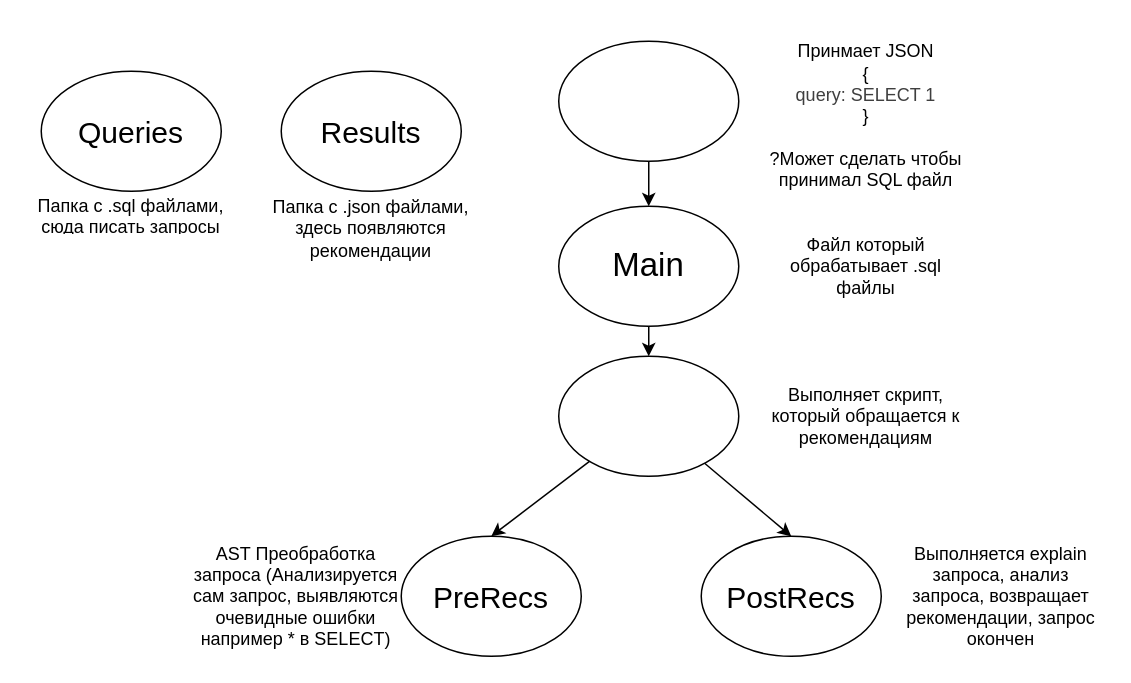
Some shapes in this 1131 by 683 pixel diagram are drawn without their labels. Here are the shapes that lost their labels. From the top down, the box of each, then its label:
(557, 40, 739, 161): CLIENT (HTTP REQUEST)
(557, 355, 739, 476): getReccomendations
